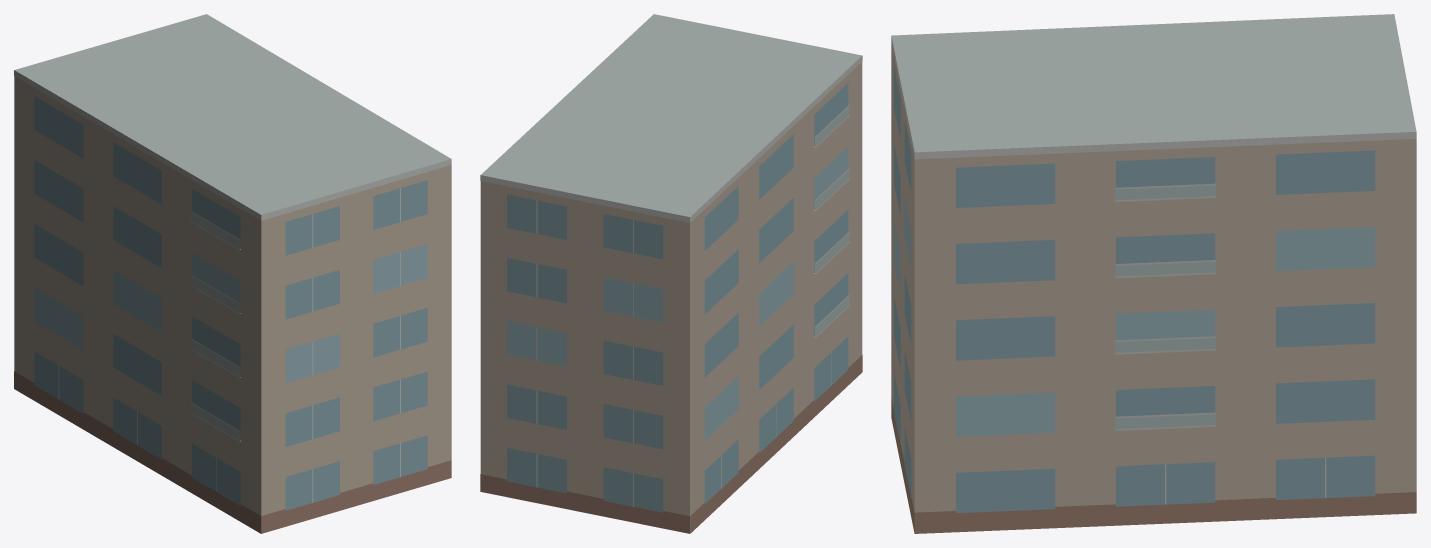
The model's file is survey-upis-33005055.glb.
3 renders of one model, left to right at view 1: azimuth 30°, elevation 25°; view 2: azimuth 150°, elevation 25°; view 3: azimuth 270°, elevation 25°, orthographic. The views are drawn at different scales.
Parts seen in each view (by area): view 1: survey-upis-33005055.tmp; view 2: survey-upis-33005055.tmp; view 3: survey-upis-33005055.tmp.
Part boxes in pixels (box(x1,y1,x2,y2)): survey-upis-33005055.tmp: box(14, 14, 451, 533); survey-upis-33005055.tmp: box(480, 14, 862, 533); survey-upis-33005055.tmp: box(891, 14, 1416, 533).
Bounding box in the file's own units: 10.35 × 13.3 × 16.61.
